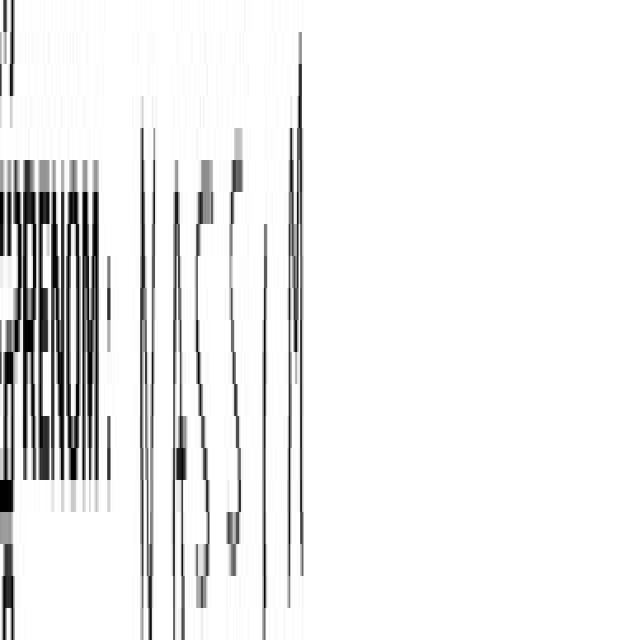A: (169, 157, 189, 640)
I: (258, 140, 275, 640)
M: (282, 191, 318, 640)
N: (133, 6, 163, 640)
S: (224, 90, 249, 640), (193, 107, 215, 640)
